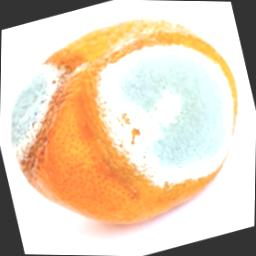Orange Rotten: (3, 32, 256, 256)
